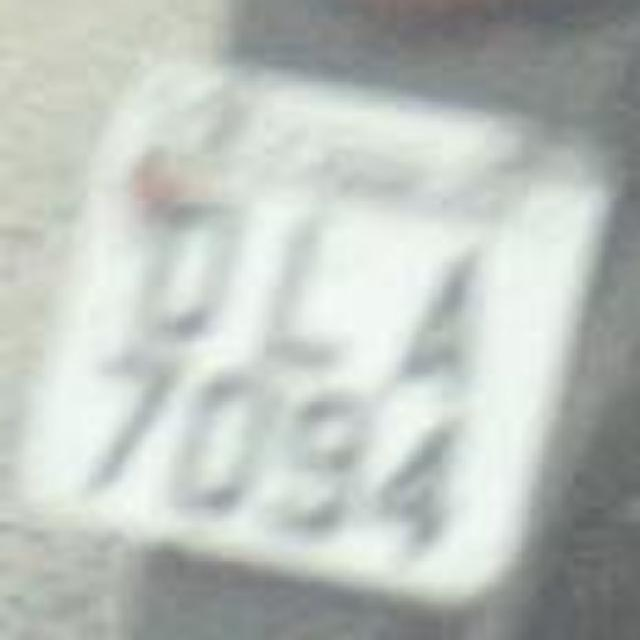0: (148, 340, 288, 535)
4: (348, 380, 484, 575)
7: (44, 320, 184, 525)
9: (252, 364, 376, 548)
D: (112, 172, 256, 348)
J: (240, 196, 372, 372)
